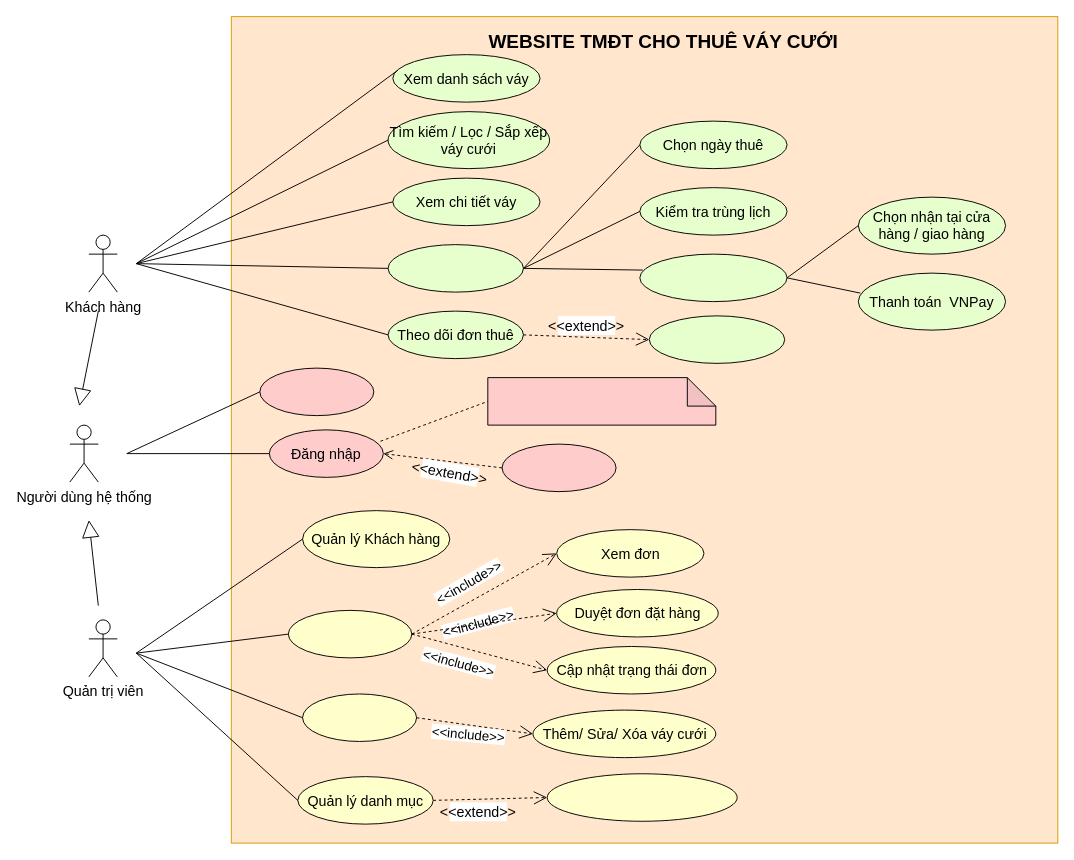
This 1074x860 diagram has some shape labels left out. Here are the shapes that lost their labels. From the top down, the centre of each, then its label:
the point at 455,268: Đặt thuê váy
the point at 713,277: Xác nhận thông tin giao/ nhận
the point at 716,339: Hủy đơn hàng
the point at 316,391: Đăng ký
the point at 601,401: Kiểm tra vai trò (Role) để phân quyền
the point at 558,467: Quên mật khẩu
the point at 349,633: Quản lý đơn thuê
the point at 359,717: Quản lý váy cưới
the point at 641,797: Thêm/ Xóa/ Sửa danh mục
